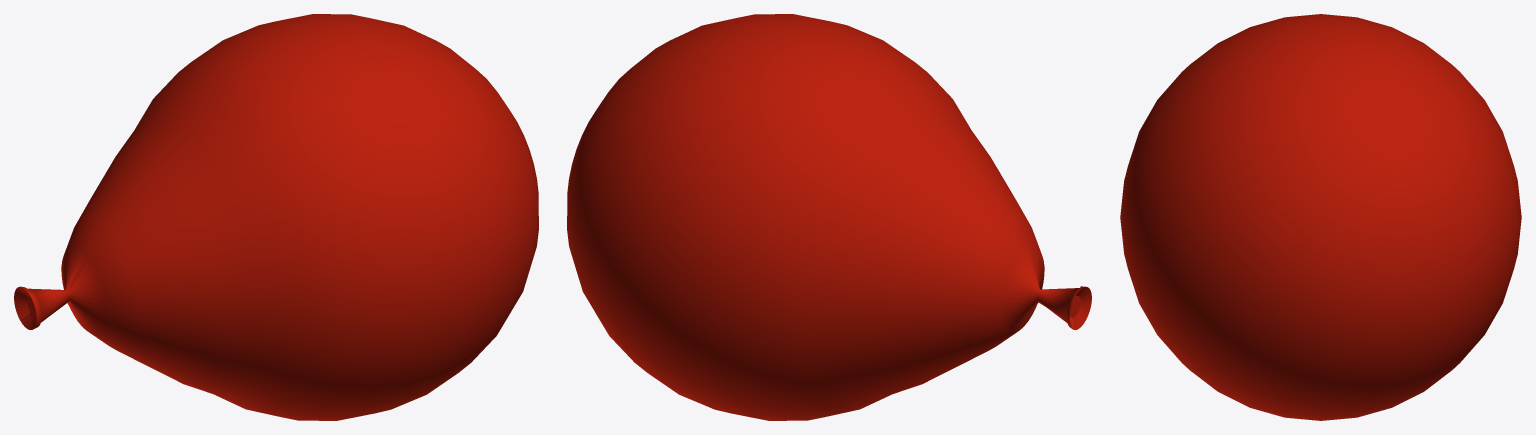
The model's file is WaterBalloon.fbx.
3 renders of one model, left to right at view 1: azimuth 30°, elevation 25°; view 2: azimuth 150°, elevation 25°; view 3: azimuth 270°, elevation 25°, orthographic.
Parts seen in each view (by area): view 1: Water Balloon; view 2: Water Balloon; view 3: Water Balloon.
Part boxes in pixels (left/top/right/bottom): Water Balloon: left=14, top=14, right=538, bottom=420; Water Balloon: left=567, top=14, right=1091, bottom=420; Water Balloon: left=1120, top=14, right=1521, bottom=420.
Bounding box in the file's own units: 0.2853 × 0.3964 × 0.2847.
